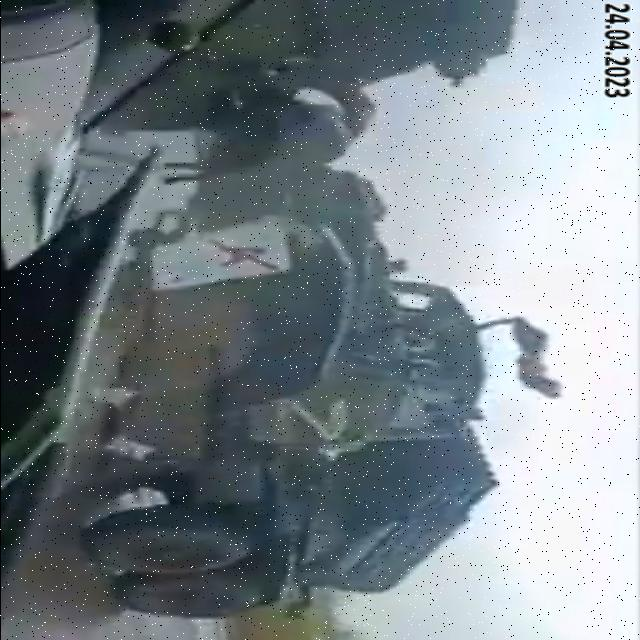MLRS: (89, 165, 513, 616)
